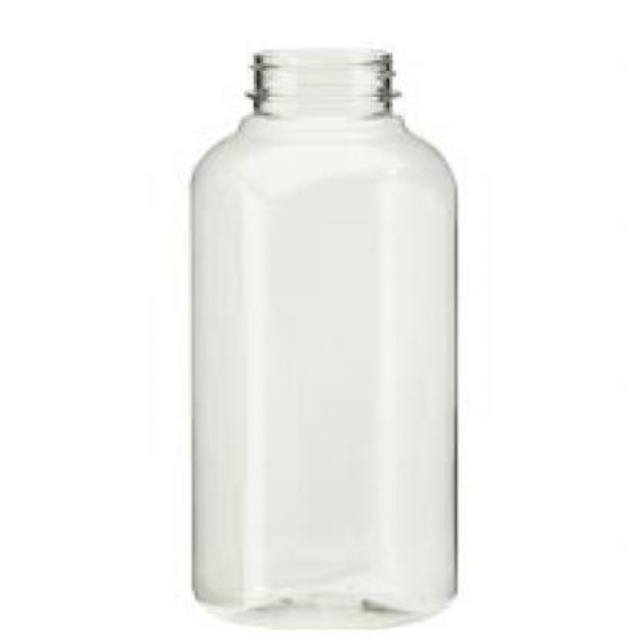trash: (192, 49, 454, 626)
